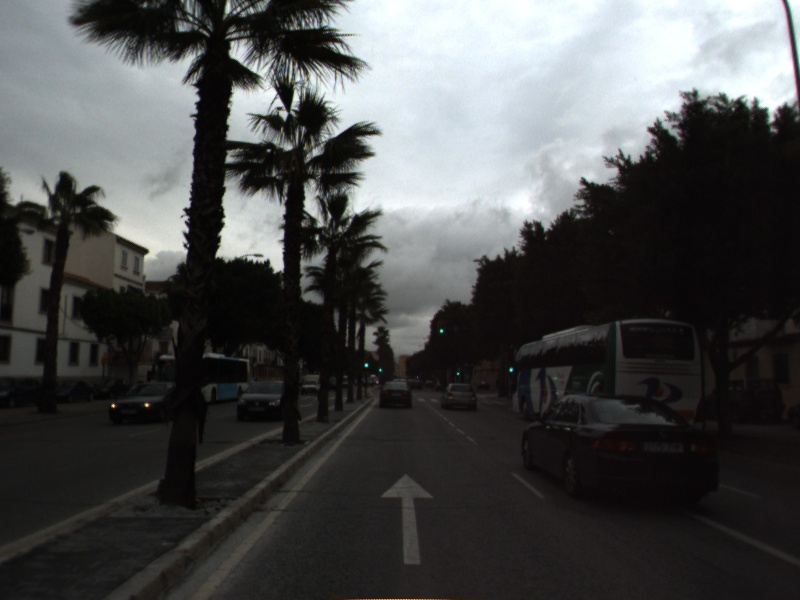STRAIGHT: (377, 468, 438, 568)
